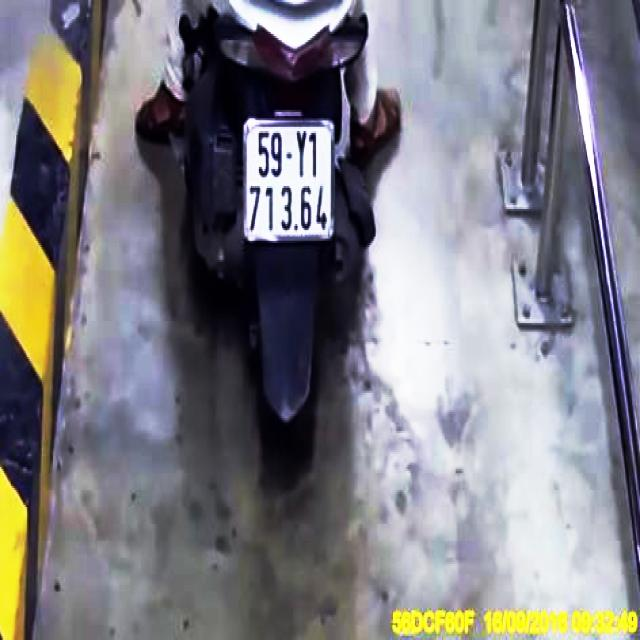license_plate: (245, 125, 332, 241)
